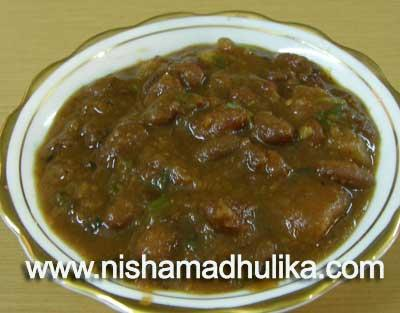rajma: (51, 55, 389, 258)
